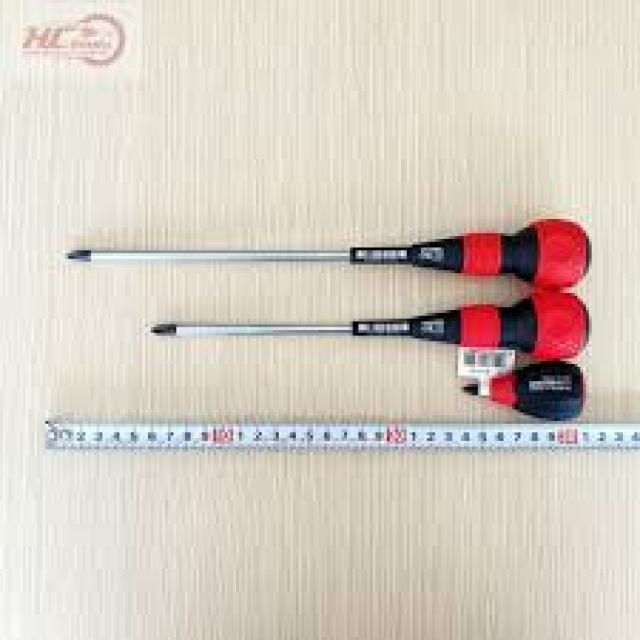screwdriver: (62, 214, 594, 288), (140, 288, 594, 362), (455, 361, 592, 421)
